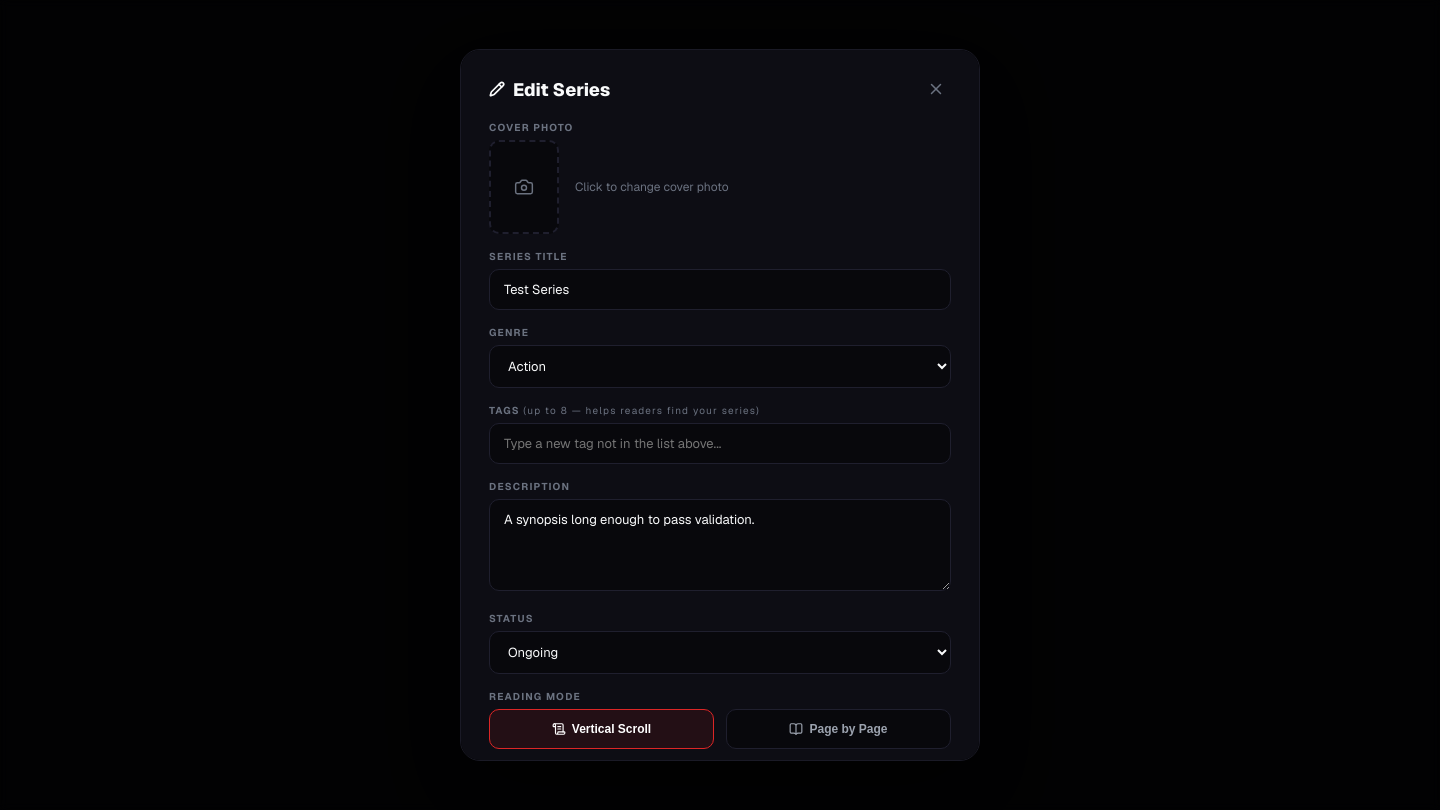
Test case: EditSeriesModal — tag save (slug-collision fix) › shows a warning (not silence) when the tag can be neither created nor found
This screenshot has width=1440, height=810.
Type "Brand New Tag" into the field with placeholder "Type a new tag not in the list above..." at (720, 443), box x1=489 y1=423 x2=951 y2=464
(page scrolled)
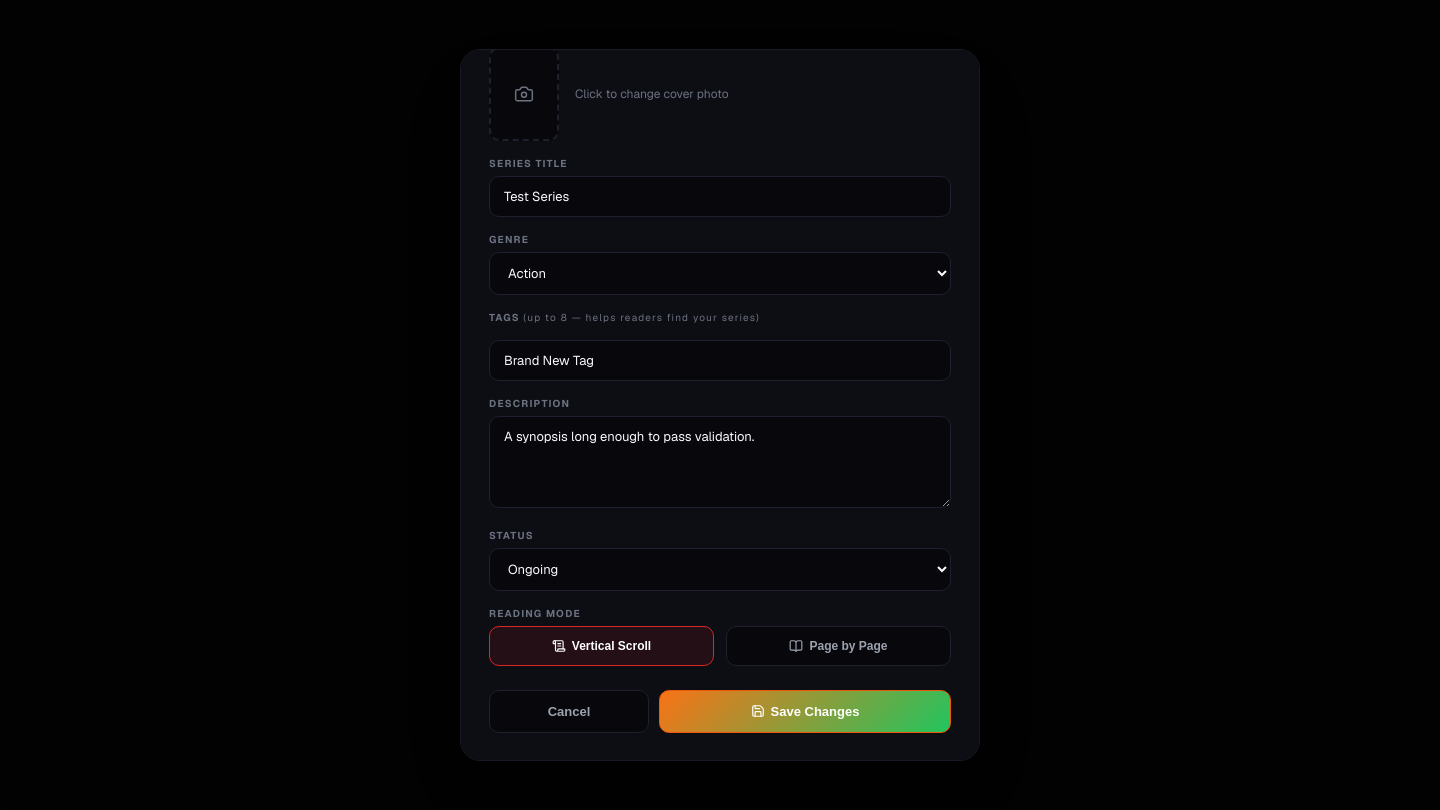
Click the button "Save Changes" at (805, 711), box x1=659 y1=690 x2=951 y2=733
(page scrolled)
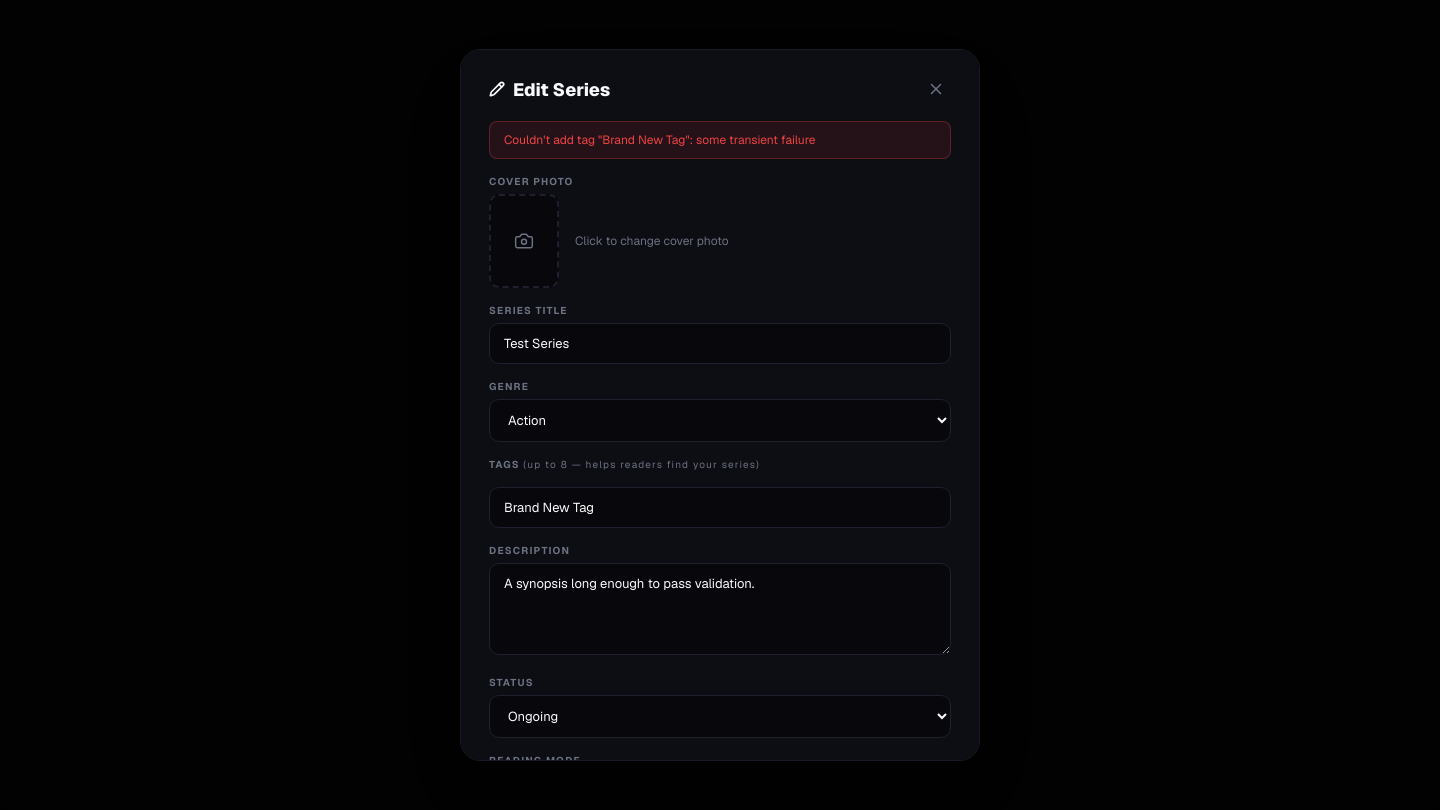
expect the text "Couldn't add tag \"Brand New Tag\": some transient failure" is shown: met, box x1=489 y1=121 x2=951 y2=159
